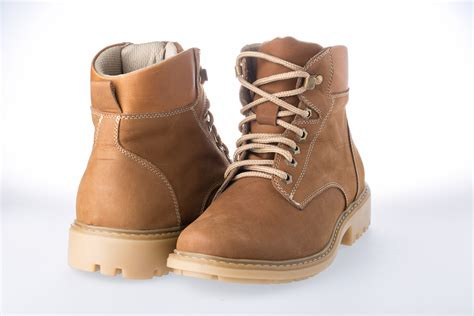cuero: (72, 36, 366, 265)
